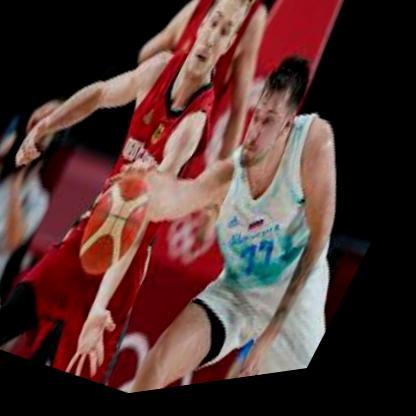basketball: (67, 168, 168, 294)
